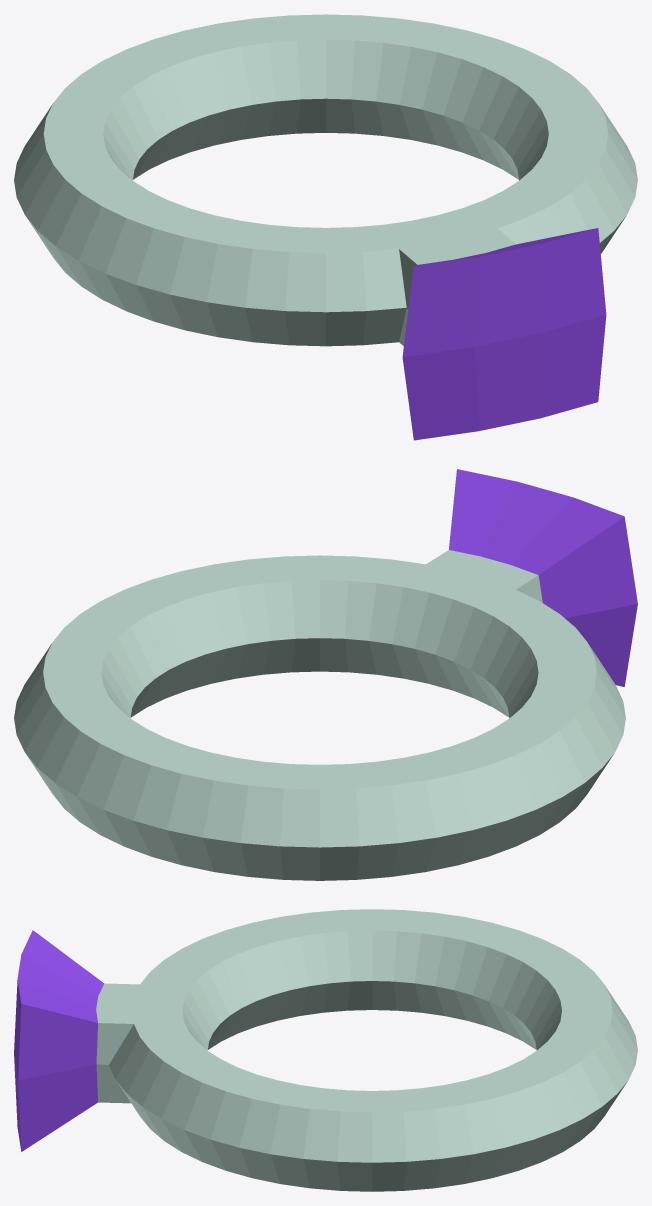
The model's file is Jane's Ring.fbx.
3 views of the same model, one above another, from view 1: azimuth 30°, elevation 25°; view 2: azimuth 150°, elevation 25°; view 3: azimuth 270°, elevation 25° (orthographic). The views are drawn at different scales.
Visible parts, largest first — view 1: Jane's Ring; view 2: Jane's Ring; view 3: Jane's Ring.
Part boxes in pixels (x1,y1,x2,y2): Jane's Ring: (14, 14, 637, 440); Jane's Ring: (14, 469, 637, 880); Jane's Ring: (14, 909, 637, 1191).
Size of the model in its own units: 84 by 25.88 by 98.62.
